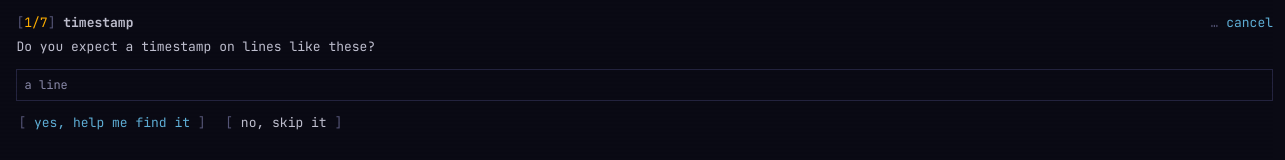
Test: SchemaEditor when the guided walk finishes › keeps the values and a retry when configuring fails
The width and height of the screenshot is (1285, 160).
Later steps or results of the test are not shown.
Click the button "no, skip it": (284, 122) [223,112,344,132]
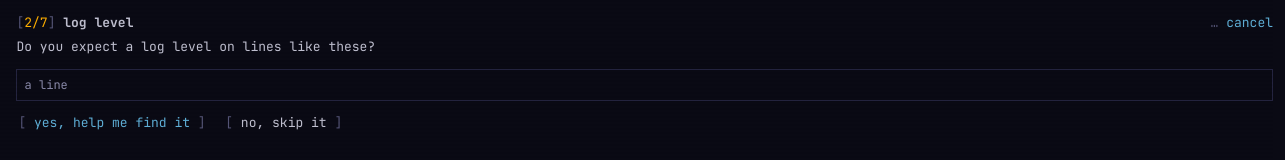
Click the button "no, skip it": (284, 122) [223,112,344,132]
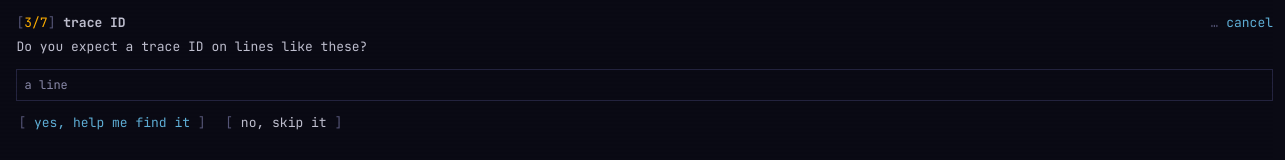
Click the button "no, skip it": (284, 122) [223,112,344,132]
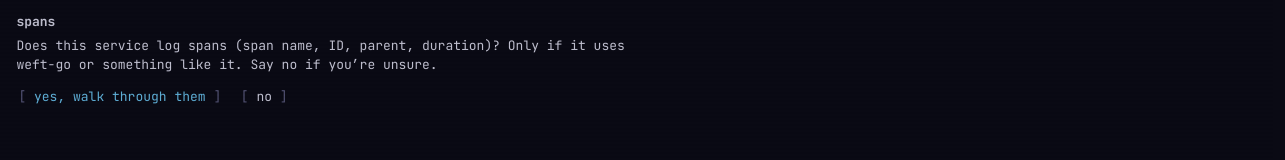
Click the button with test id "se-wizard-spans-no-button": (264, 96) [239,86,290,106]
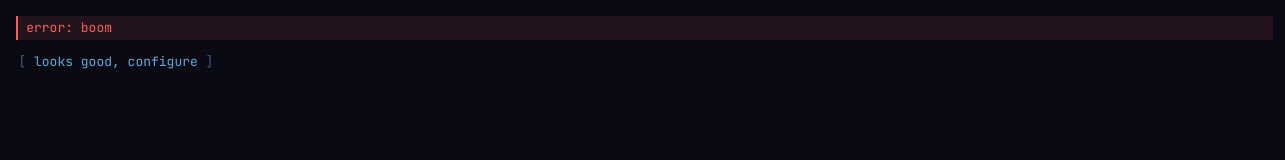
Result: the text with test id "se-error" shows "boom" at [81,19,112,36]
